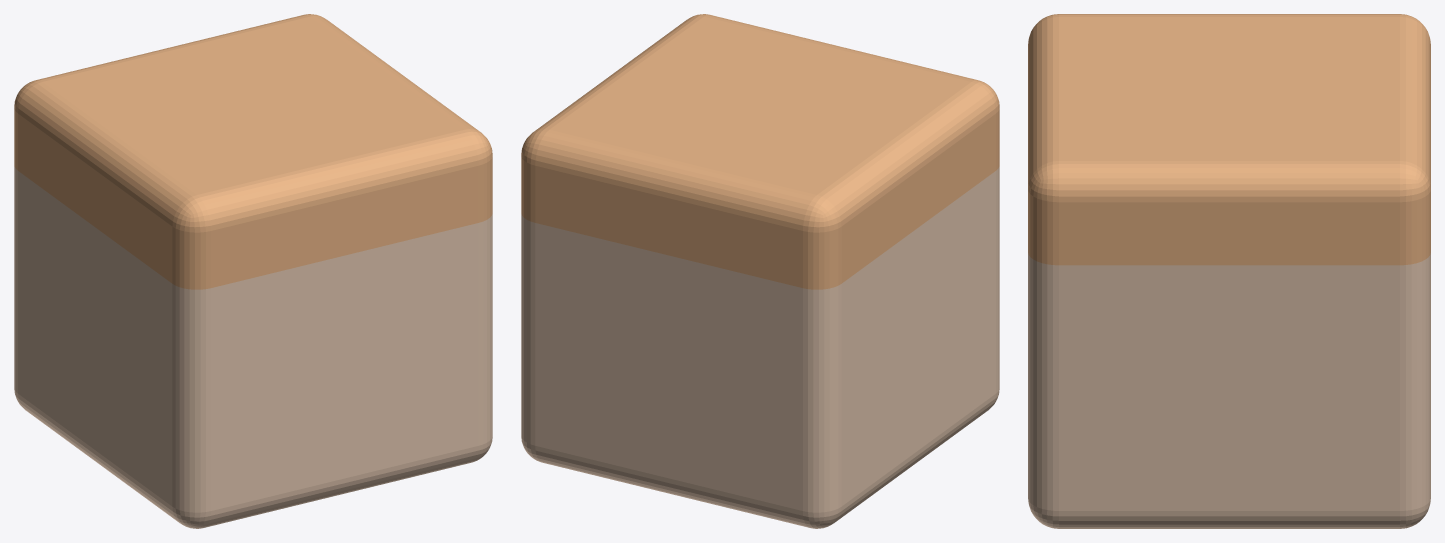
The model's file is bip_jam_desert_cube.glb.
The picture shows the model from 3 angles, left to right: view 1: azimuth 30°, elevation 25°; view 2: azimuth 150°, elevation 25°; view 3: azimuth 270°, elevation 25°; orthographic projection. The views are drawn at different scales.
Visible parts, largest first — view 1: desert cube; view 2: desert cube; view 3: desert cube.
Boxes of the visible parts, <box> form: desert cube: <box>14,14,492,528</box>; desert cube: <box>521,14,999,528</box>; desert cube: <box>1028,14,1430,528</box>.
Bounding box in the file's own units: 1.03 × 1.03 × 1.03.
